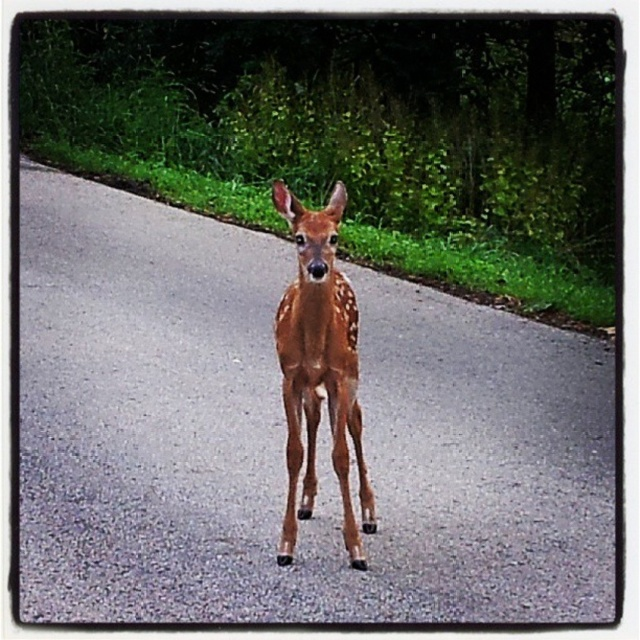Deer: (272, 177, 379, 569)
